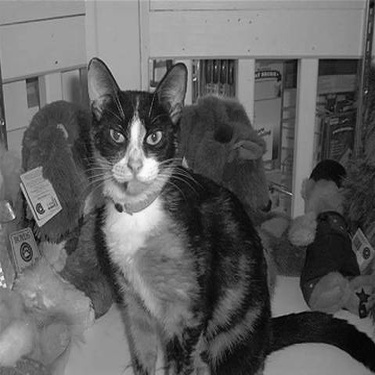cat: (47, 48, 283, 372)
